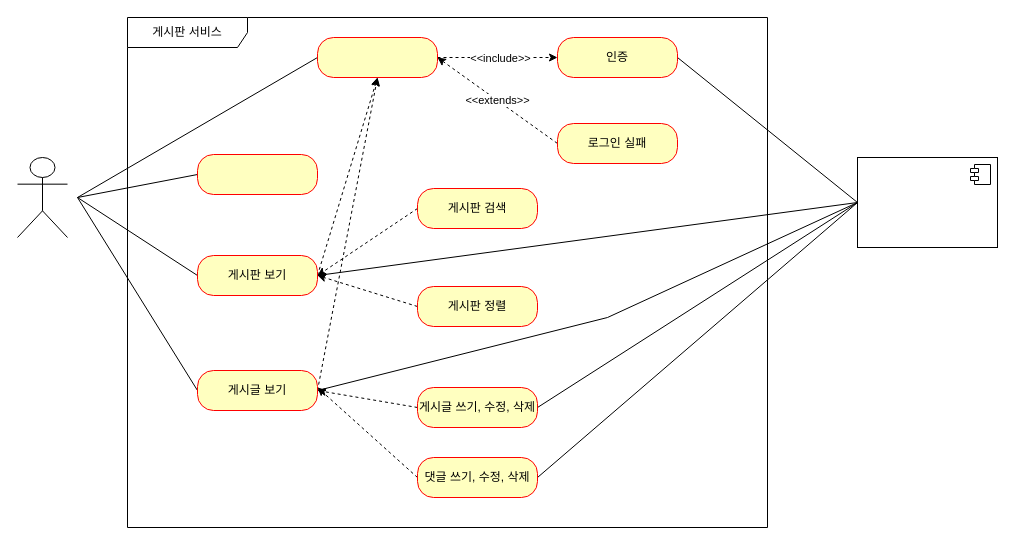
The diagram is 1015 pixels wide and 545 high, and some of its shapes have lost their labels. Each missing label, with the centre of its shape:
"DB" goes at (x=927, y=202).
"이용자" goes at (x=42, y=197).
"회원 가입" goes at (x=257, y=174).
"회원 로그인" goes at (x=377, y=57).
